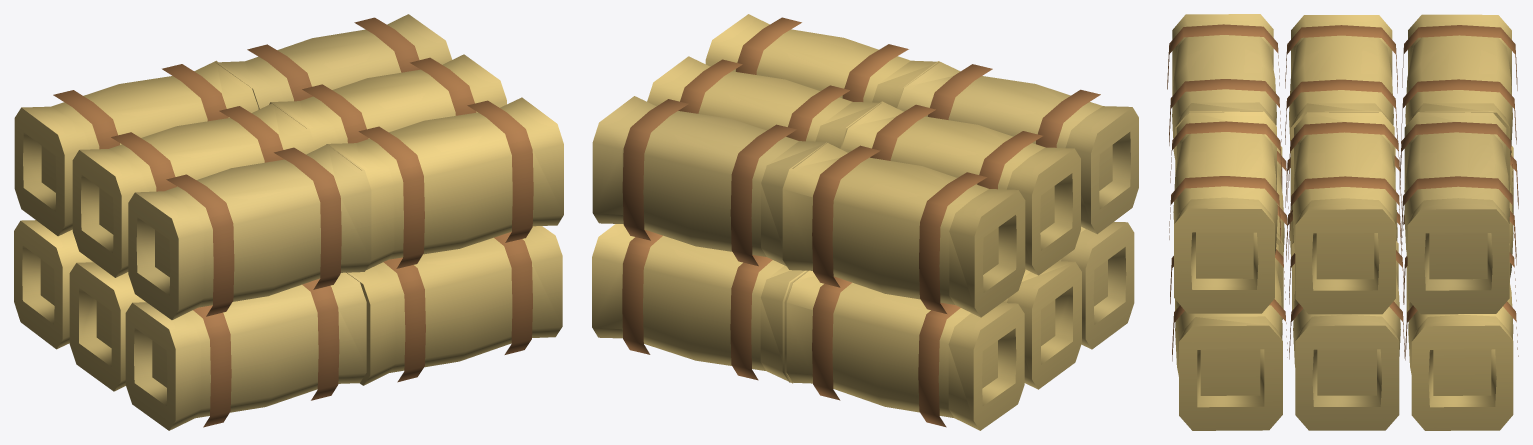
Rendered from hay_bales.glb.
The picture shows the model from 3 angles, left to right: view 1: azimuth 30°, elevation 25°; view 2: azimuth 150°, elevation 25°; view 3: azimuth 270°, elevation 25°; orthographic projection. The views are drawn at different scales.
Parts seen in each view (by area): view 1: hay_bales; view 2: hay_bales; view 3: hay_bales.
Boxes of the visible parts, box(x1,y1,x2,y2) form: hay_bales: box(14, 14, 563, 430); hay_bales: box(592, 14, 1138, 430); hay_bales: box(1167, 14, 1518, 430).
Size of the model in its own units: 1.61 by 0.8909 by 1.22.
1 material, 1 textured.
